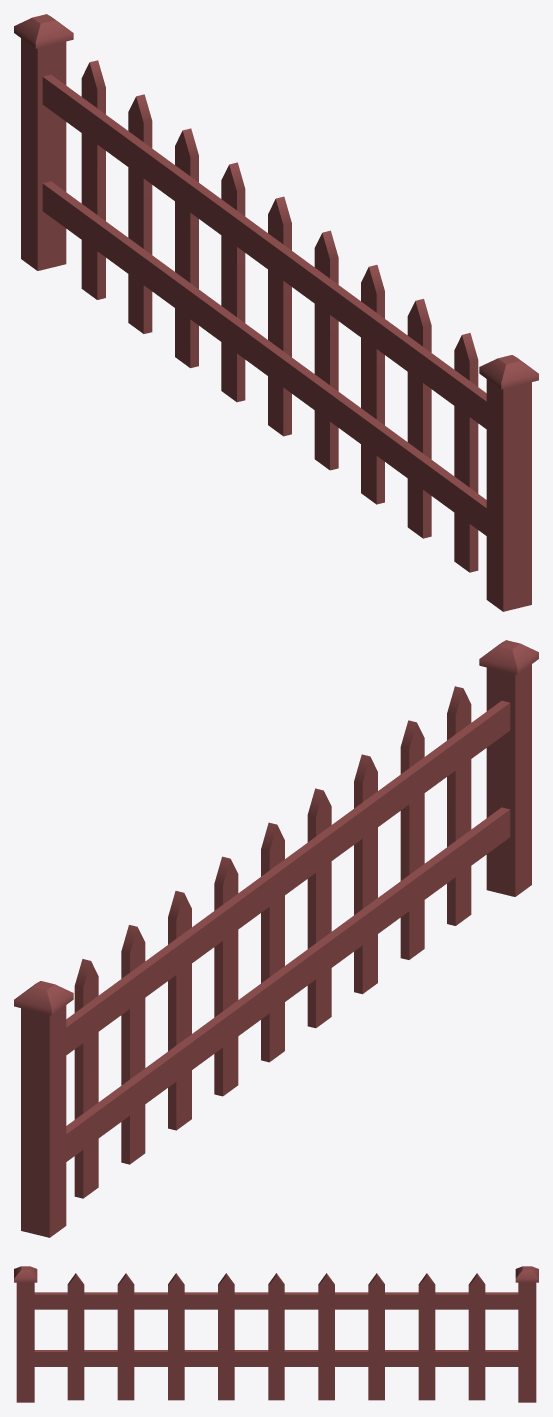
The model's file is Fence.fbx.
3 renders of one model, top to bottom at view 1: azimuth 30°, elevation 25°; view 2: azimuth 150°, elevation 25°; view 3: azimuth 270°, elevation 25°, orthographic. The views are drawn at different scales.
Parts seen in each view (by area): view 1: Cross_Beam_01, Cross_Beam_02, Post_02, Post_01, Picket_06, Picket_09, Picket_08, Picket_01, Picket_02, Picket_04, Picket_07, Picket_05 (+1 smaller); view 2: Cross_Beam_01, Cross_Beam_02, Post_01, Post_02, Picket_01, Picket_04, Picket_08, Picket_09, Picket_02, Picket_06, Picket_03, Picket_05 (+1 smaller); view 3: Cross_Beam_01, Cross_Beam_02, Post_02, Post_01, Picket_08, Picket_09, Picket_01, Picket_02, Picket_05, Picket_06, Picket_07, Picket_03 (+1 smaller).
Part boxes in pixels (x1,y1,x2,y2): Cross_Beam_01: (42, 74, 486, 428); Cross_Beam_02: (42, 181, 486, 535); Post_02: (479, 355, 538, 611); Post_01: (14, 14, 73, 270); Picket_06: (221, 162, 245, 402); Picket_09: (81, 60, 105, 299); Picket_08: (128, 94, 152, 333); Picket_01: (454, 333, 478, 572); Picket_02: (407, 299, 431, 538); Picket_04: (314, 230, 338, 470); Picket_07: (175, 128, 198, 368); Picket_05: (268, 196, 291, 436); Cross_Beam_01: (66, 700, 510, 1054); Cross_Beam_02: (66, 807, 510, 1161); Post_01: (14, 981, 73, 1237); Post_02: (479, 640, 538, 896); Picket_01: (447, 686, 471, 925); Picket_04: (307, 788, 331, 1028); Picket_08: (121, 925, 145, 1164); Picket_09: (74, 959, 98, 1198); Picket_02: (400, 720, 424, 959); Picket_06: (214, 856, 238, 1096); Picket_03: (354, 754, 377, 994); Picket_05: (261, 822, 284, 1062); Cross_Beam_01: (34, 1292, 518, 1309); Cross_Beam_02: (34, 1350, 518, 1366); Post_02: (14, 1266, 37, 1402); Post_01: (515, 1266, 538, 1402); Picket_08: (418, 1273, 435, 1400); Picket_09: (468, 1273, 485, 1400); Picket_01: (67, 1273, 84, 1400); Picket_02: (117, 1273, 134, 1400); Picket_05: (268, 1273, 284, 1400); Picket_06: (318, 1273, 334, 1400); Picket_07: (368, 1273, 384, 1400); Picket_03: (168, 1273, 184, 1400).
Size of the model in its own units: 0.1871 by 1.15 by 4.19.
